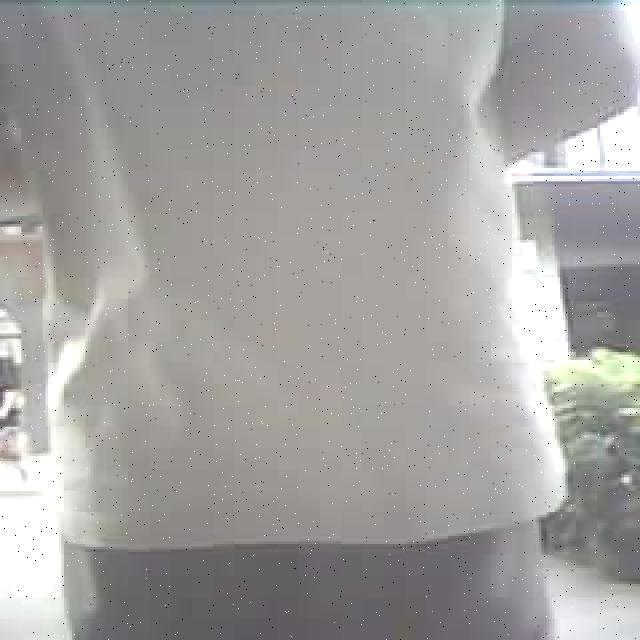person: (35, 0, 640, 637)
